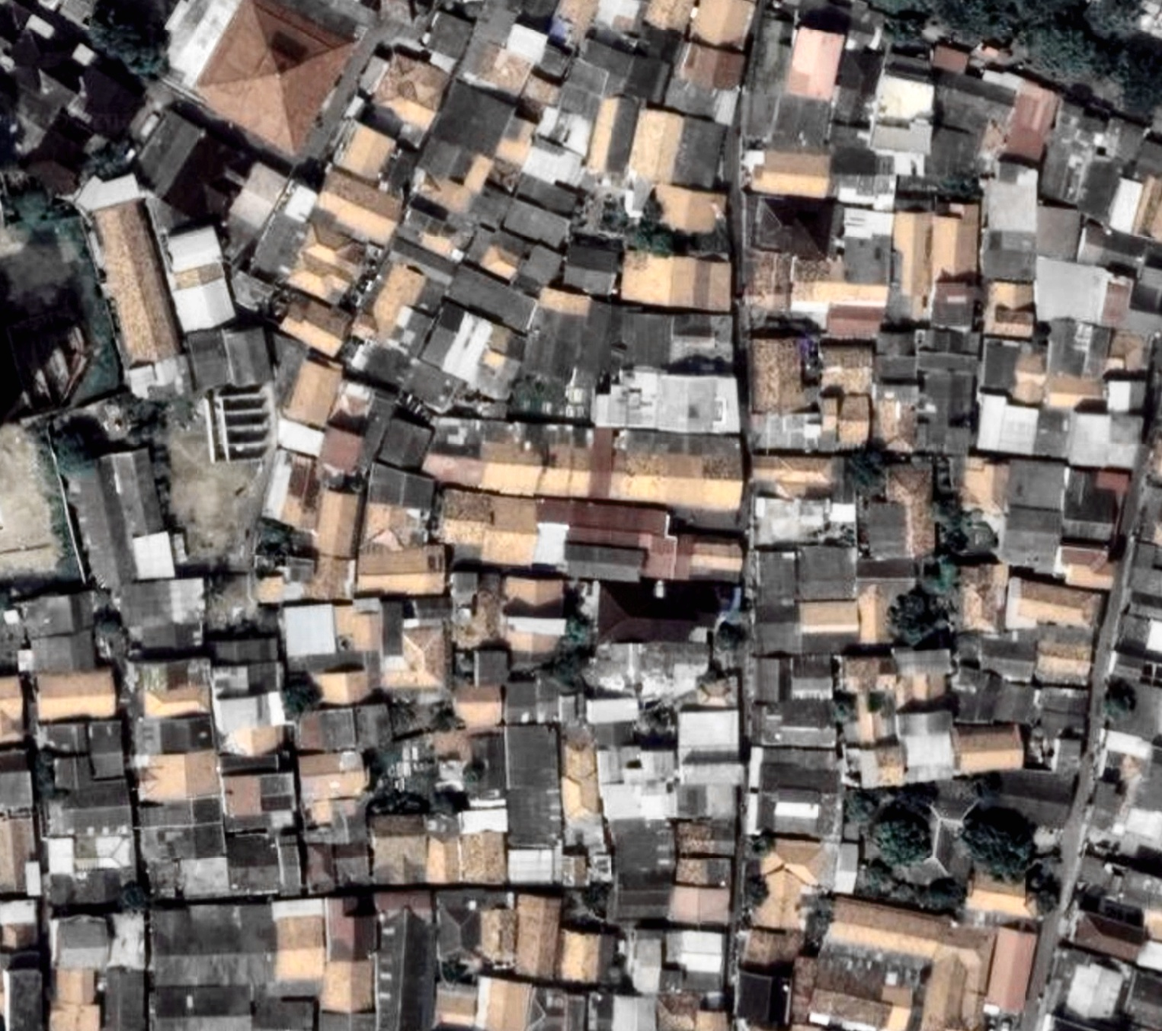building: (140, 0, 359, 160), (421, 412, 746, 512), (787, 890, 997, 1031), (735, 228, 898, 350), (583, 572, 721, 708), (62, 444, 177, 596), (86, 196, 186, 370), (121, 103, 255, 231), (150, 899, 275, 1030), (1025, 97, 1149, 224), (551, 465, 680, 582), (739, 11, 844, 149), (824, 893, 997, 973), (552, 26, 667, 140), (828, 650, 913, 794), (590, 364, 744, 437), (923, 65, 1013, 183), (136, 794, 233, 901), (455, 0, 554, 103), (623, 102, 728, 198), (864, 47, 941, 177), (430, 484, 546, 570), (461, 210, 569, 301), (1064, 847, 1162, 943), (157, 222, 239, 335), (0, 9, 95, 105), (911, 326, 980, 456), (210, 156, 293, 263), (308, 164, 410, 251), (282, 215, 375, 310), (246, 171, 325, 282), (57, 55, 150, 147), (15, 103, 104, 198), (610, 305, 735, 372), (375, 895, 436, 1030), (366, 44, 456, 134), (754, 745, 842, 837), (207, 635, 287, 735), (357, 461, 438, 559), (444, 310, 533, 398), (406, 133, 495, 220), (429, 76, 518, 162), (1039, 945, 1128, 1031), (114, 565, 214, 641), (519, 282, 594, 383), (503, 721, 563, 847), (443, 259, 542, 335), (858, 462, 935, 559), (619, 249, 735, 312), (596, 741, 681, 826), (296, 748, 372, 843), (519, 103, 600, 192), (379, 596, 451, 691), (411, 294, 490, 379), (20, 589, 98, 675), (118, 574, 206, 650), (743, 192, 838, 262), (185, 320, 276, 391), (498, 573, 568, 665), (555, 731, 606, 855), (271, 287, 357, 360), (359, 256, 431, 342), (1005, 573, 1103, 635), (989, 763, 1076, 832), (392, 195, 476, 266), (280, 349, 351, 433), (261, 449, 332, 533), (920, 945, 988, 1031), (623, 103, 688, 190), (981, 922, 1039, 1019), (434, 885, 509, 960), (202, 387, 275, 464), (294, 699, 394, 755), (996, 77, 1061, 162), (43, 777, 133, 838), (583, 89, 643, 180), (747, 332, 811, 415), (1055, 466, 1123, 544), (659, 65, 741, 129), (0, 67, 57, 159), (220, 765, 299, 831), (133, 655, 213, 720), (753, 494, 857, 544), (134, 747, 222, 805), (748, 862, 816, 937), (826, 142, 901, 210), (677, 707, 742, 785), (505, 671, 590, 730), (1064, 405, 1141, 470), (781, 18, 844, 97), (1118, 733, 1162, 846), (644, 531, 743, 581), (329, 116, 400, 185), (272, 897, 328, 984), (33, 665, 119, 721), (648, 180, 729, 239), (509, 890, 562, 980), (362, 458, 440, 519), (1064, 904, 1146, 962), (1034, 253, 1105, 318), (751, 695, 838, 748), (356, 544, 446, 595), (895, 707, 956, 782), (558, 233, 626, 300), (828, 43, 887, 120), (369, 811, 429, 886), (1093, 272, 1162, 337), (749, 451, 842, 499), (572, 296, 625, 380), (750, 146, 833, 199), (309, 483, 365, 560), (674, 37, 748, 95), (462, 39, 535, 97), (374, 408, 437, 475), (501, 194, 574, 251), (520, 134, 590, 193), (954, 559, 1009, 634), (399, 356, 465, 418), (980, 338, 1047, 399), (608, 816, 676, 876), (995, 509, 1062, 569), (964, 870, 1041, 922), (855, 495, 912, 564), (915, 809, 968, 883), (731, 968, 793, 1031), (974, 392, 1038, 453), (766, 831, 834, 888), (929, 197, 980, 273), (339, 335, 412, 388), (948, 661, 1005, 727), (562, 540, 647, 584), (952, 723, 1025, 774), (216, 260, 279, 319), (973, 223, 1039, 279), (1048, 317, 1111, 375), (324, 895, 378, 962), (224, 830, 280, 894), (983, 159, 1037, 225), (554, 925, 612, 986), (796, 542, 857, 600), (1003, 454, 1064, 512), (50, 912, 112, 969), (279, 600, 338, 659), (452, 577, 501, 648), (132, 714, 214, 756), (925, 772, 983, 831), (1102, 678, 1161, 736), (476, 974, 536, 1031), (1077, 221, 1146, 270), (1051, 540, 1121, 588), (662, 926, 727, 977), (331, 597, 387, 656), (743, 249, 794, 313), (749, 410, 823, 454), (421, 6, 477, 64), (873, 380, 918, 452), (956, 455, 1010, 515), (45, 868, 128, 907), (890, 209, 929, 292), (49, 967, 100, 1030), (315, 421, 370, 479), (620, 307, 674, 366), (310, 661, 375, 710), (738, 925, 803, 974), (845, 741, 908, 791), (123, 353, 188, 401), (1113, 176, 1160, 242), (983, 279, 1036, 337), (4, 958, 46, 1031), (513, 171, 580, 216), (1034, 634, 1093, 685), (319, 958, 374, 1012), (927, 274, 980, 330), (691, 0, 755, 46), (492, 109, 541, 169), (0, 814, 37, 892), (587, 695, 644, 745), (102, 967, 147, 1030), (1082, 772, 1130, 831), (611, 874, 672, 920), (623, 928, 665, 994), (667, 883, 731, 926), (330, 375, 379, 431), (979, 633, 1036, 681), (85, 716, 128, 779), (821, 343, 874, 394), (219, 722, 286, 762), (463, 732, 505, 795), (107, 910, 150, 970), (530, 988, 591, 1030), (1036, 685, 1088, 734), (752, 604, 803, 653), (842, 233, 891, 284), (1122, 963, 1161, 1027), (459, 831, 506, 884), (753, 548, 797, 604), (432, 979, 479, 1031), (1027, 206, 1079, 253), (73, 832, 134, 871), (991, 678, 1040, 726), (476, 904, 515, 964), (1042, 372, 1103, 410), (271, 416, 326, 458), (453, 683, 502, 730), (634, 19, 684, 65), (330, 837, 375, 888), (1124, 534, 1162, 594), (678, 782, 738, 819), (0, 747, 33, 814), (507, 844, 562, 884), (252, 997, 318, 1030), (824, 304, 884, 340), (231, 860, 283, 901), (676, 819, 735, 855), (799, 599, 859, 634), (876, 328, 916, 380), (0, 897, 39, 950), (675, 853, 733, 888), (789, 655, 834, 700), (857, 584, 890, 644), (1107, 329, 1152, 373), (855, 556, 918, 587), (835, 393, 870, 448), (1032, 408, 1068, 461), (891, 645, 952, 676), (1115, 611, 1162, 650), (753, 656, 791, 704), (556, 0, 598, 43), (0, 674, 25, 744), (533, 520, 569, 567), (426, 835, 460, 884), (303, 842, 337, 891), (611, 994, 656, 1030), (595, 0, 644, 33), (535, 40, 575, 80), (503, 612, 567, 637), (832, 839, 861, 894), (1047, 733, 1084, 776), (644, 0, 694, 31), (52, 753, 92, 791), (656, 995, 699, 1030), (41, 721, 87, 752), (472, 647, 509, 685), (426, 728, 467, 762), (1103, 377, 1146, 409), (928, 39, 969, 71), (45, 836, 76, 877), (346, 309, 380, 346), (1106, 652, 1145, 682), (317, 1010, 375, 1030), (561, 848, 590, 886), (586, 992, 613, 1030), (0, 898, 36, 925), (774, 799, 819, 820), (1096, 467, 1129, 495), (659, 964, 686, 994), (589, 850, 612, 882), (494, 305, 513, 323), (538, 501, 559, 517), (508, 318, 526, 330)
tree: (948, 795, 1047, 887), (879, 578, 957, 652), (614, 200, 685, 274), (122, 391, 200, 449), (833, 437, 898, 504), (43, 414, 106, 479), (869, 807, 932, 871), (11, 181, 76, 243), (850, 851, 912, 910), (540, 638, 599, 698), (81, 131, 144, 185), (934, 496, 996, 550), (837, 776, 891, 832), (271, 670, 326, 724), (918, 544, 967, 596), (1119, 57, 1161, 116), (893, 773, 943, 821), (1022, 867, 1069, 918), (557, 606, 602, 650), (115, 876, 157, 919), (931, 169, 983, 201), (256, 517, 297, 557), (571, 881, 611, 921), (918, 877, 966, 909), (428, 783, 467, 817), (199, 574, 231, 614), (1102, 684, 1136, 721), (92, 607, 124, 646), (1031, 846, 1066, 880), (713, 621, 747, 655), (833, 697, 857, 724), (748, 834, 775, 858)
